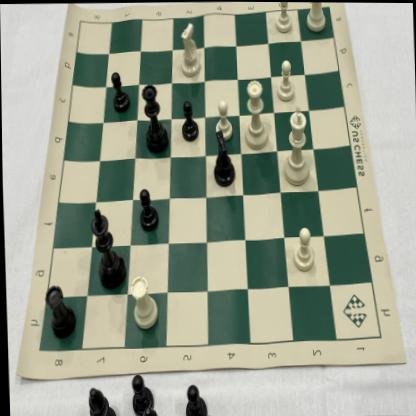black-king: (88, 206, 127, 294)
black-knight: (207, 128, 242, 187)
black-pawn: (109, 66, 133, 116), (137, 187, 160, 236), (178, 99, 200, 146)
black-queen: (140, 79, 171, 158)
black-rook: (43, 280, 79, 344)
white-king: (279, 102, 313, 189)
white-knight: (176, 19, 204, 80)
white-pawn: (211, 94, 237, 145), (290, 224, 316, 272), (274, 55, 298, 103), (272, 2, 296, 37)
white-queen: (243, 74, 269, 151)
white-rook: (127, 270, 159, 332), (302, 2, 329, 34)
